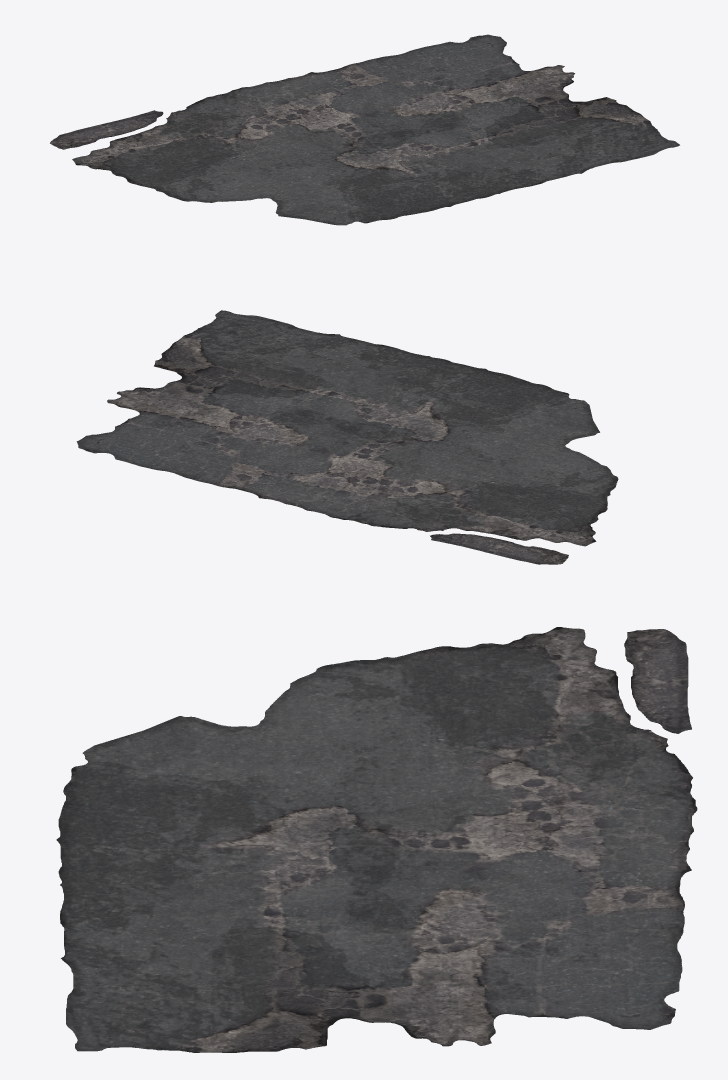
File: CP_Broken_Asphalt_04.fbx
The picture shows the model from 3 angles, top to bottom: view 1: azimuth 30°, elevation 25°; view 2: azimuth 150°, elevation 25°; view 3: azimuth 270°, elevation 25°; orthographic projection. The views are drawn at different scales.
Parts seen in each view (by area): view 1: CP_Broken_Asphalt_04; view 2: CP_Broken_Asphalt_04; view 3: CP_Broken_Asphalt_04.
Part boxes in pixels (x1,y1,x2,y2): CP_Broken_Asphalt_04: (50,34,679,225); CP_Broken_Asphalt_04: (76,310,618,564); CP_Broken_Asphalt_04: (56,627,697,1052).
Bounding box in the file's own units: 252 × 0 × 163.
